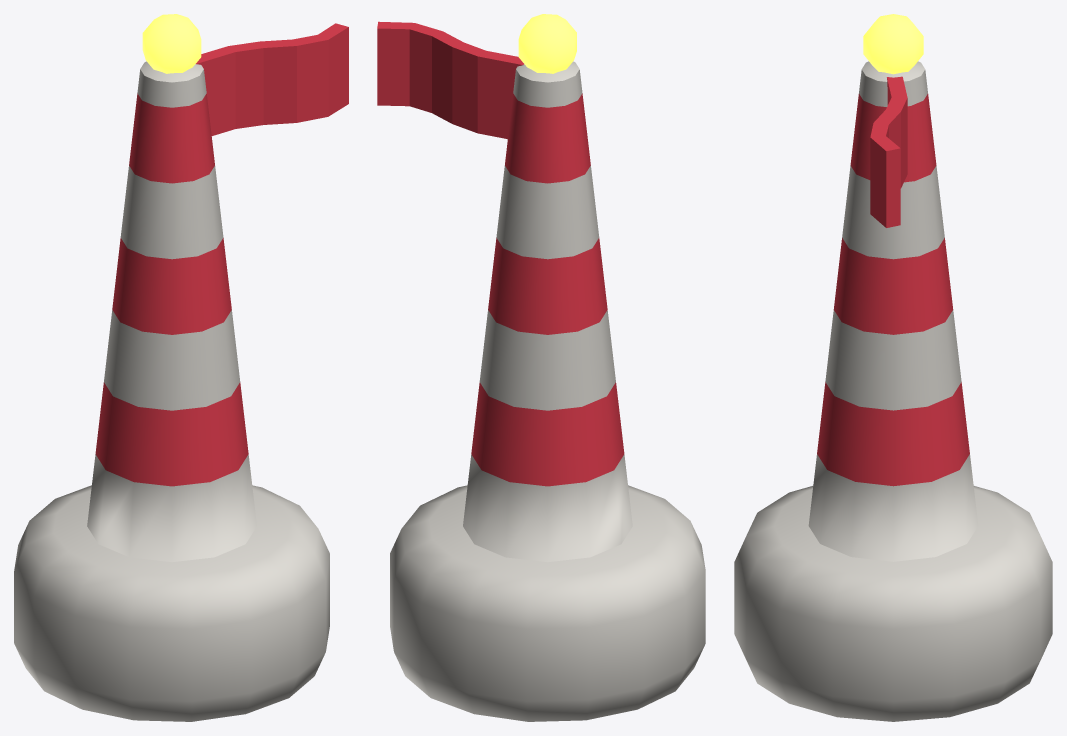
File: W1_Buoy_C.fbx
3 renders of one model, left to right at view 1: azimuth 30°, elevation 25°; view 2: azimuth 150°, elevation 25°; view 3: azimuth 270°, elevation 25°, orthographic.
Parts seen in each view (by area): view 1: Static, Pennant; view 2: Static, Pennant; view 3: Static, Pennant.
Part boxes in pixels (x1,y1,x2,y2): Static: [14, 14, 329, 721]; Pennant: [196, 23, 348, 135]; Static: [390, 14, 705, 721]; Pennant: [377, 21, 523, 139]; Static: [734, 14, 1052, 721]; Pennant: [870, 76, 907, 227].
Bounding box in the file's own units: 1.35 × 2.72 × 1.2.
